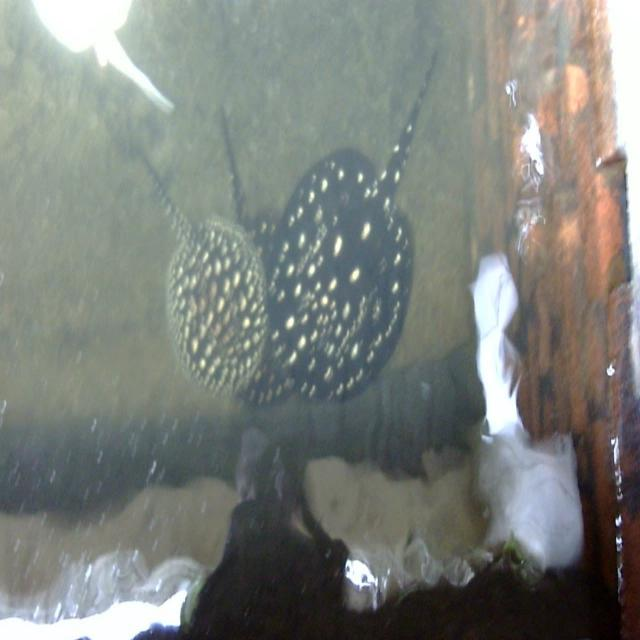black-diamond-sting-ray: (265, 15, 462, 453), (116, 129, 277, 444)
